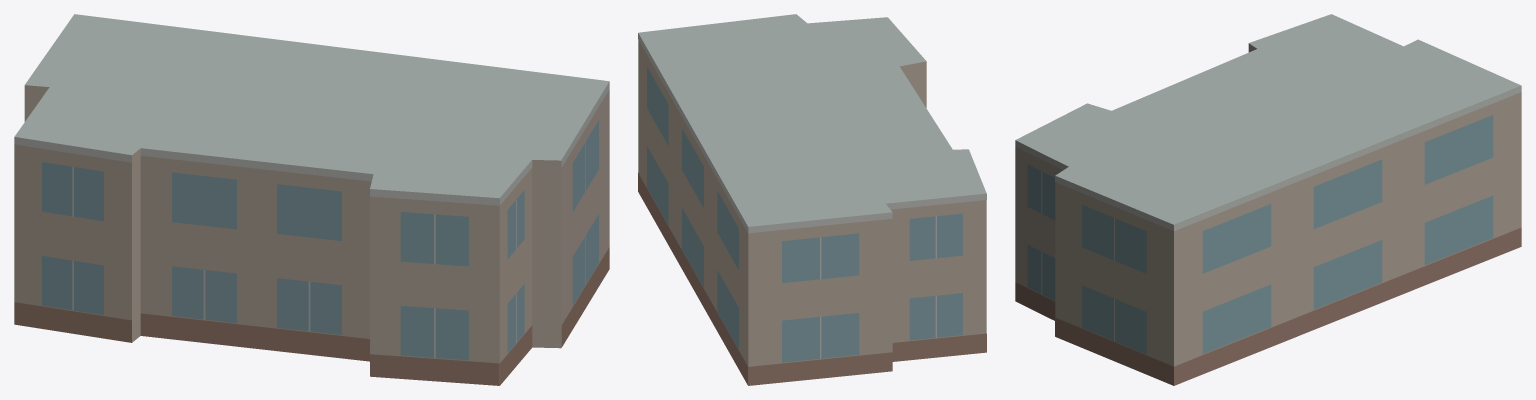
File: survey-upis-32729280.glb
3 renders of one model, left to right at view 1: azimuth 30°, elevation 25°; view 2: azimuth 150°, elevation 25°; view 3: azimuth 270°, elevation 25°, orthographic. The views are drawn at different scales.
Visible parts, largest first — view 1: survey-upis-32729280.tmp; view 2: survey-upis-32729280.tmp; view 3: survey-upis-32729280.tmp.
Part boxes in pixels (x1,y1,x2,y2): survey-upis-32729280.tmp: (14,14,609,385); survey-upis-32729280.tmp: (638,14,986,385); survey-upis-32729280.tmp: (1015,14,1521,385).
Size of the model in its own units: 17.14 by 6.1 by 17.39.
